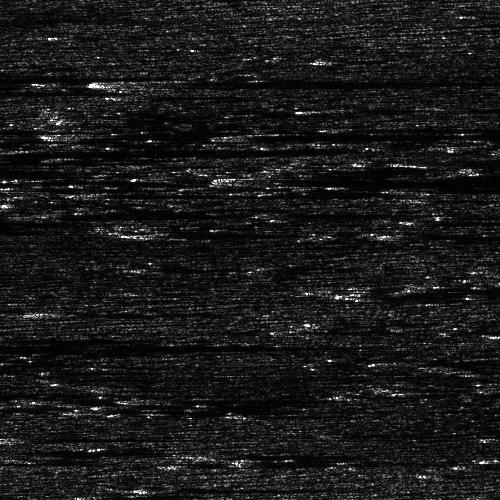object: (146, 168, 323, 187), (336, 153, 481, 166), (112, 224, 205, 239), (188, 452, 271, 465), (69, 75, 184, 84), (371, 229, 434, 238), (127, 394, 190, 403), (111, 485, 184, 492), (208, 129, 261, 138), (224, 129, 277, 138), (41, 132, 104, 139), (13, 210, 76, 217), (52, 190, 125, 195), (464, 330, 500, 339), (24, 308, 87, 313), (0, 434, 55, 439), (475, 125, 500, 134), (0, 448, 21, 455), (99, 87, 110, 100), (0, 147, 11, 156), (0, 335, 16, 340)
shadow: (235, 168, 500, 187), (0, 336, 246, 355), (127, 75, 456, 84), (235, 129, 500, 138), (251, 129, 500, 138), (230, 452, 399, 465), (0, 147, 240, 156), (158, 224, 267, 239), (0, 148, 161, 157), (158, 394, 319, 403), (409, 153, 500, 166), (0, 335, 229, 340), (45, 210, 206, 217), (148, 485, 308, 492), (403, 229, 500, 238), (55, 308, 219, 313), (24, 434, 181, 439), (73, 132, 181, 139), (105, 87, 161, 100), (0, 87, 139, 92), (0, 448, 78, 455), (89, 190, 196, 195)
